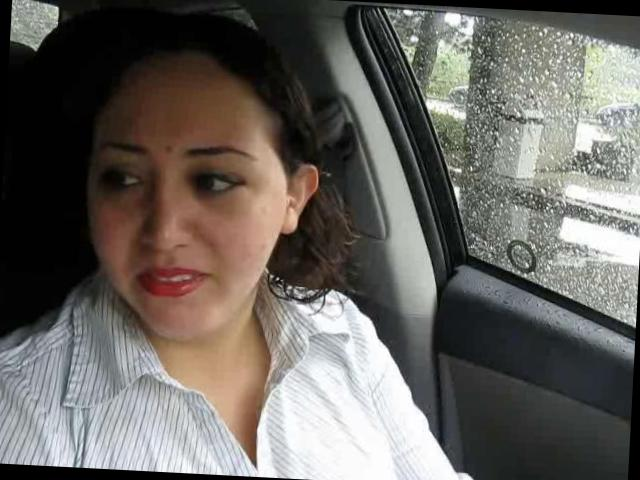eye_open: (178, 162, 253, 206), (91, 158, 148, 198)
face: (76, 109, 286, 350)
